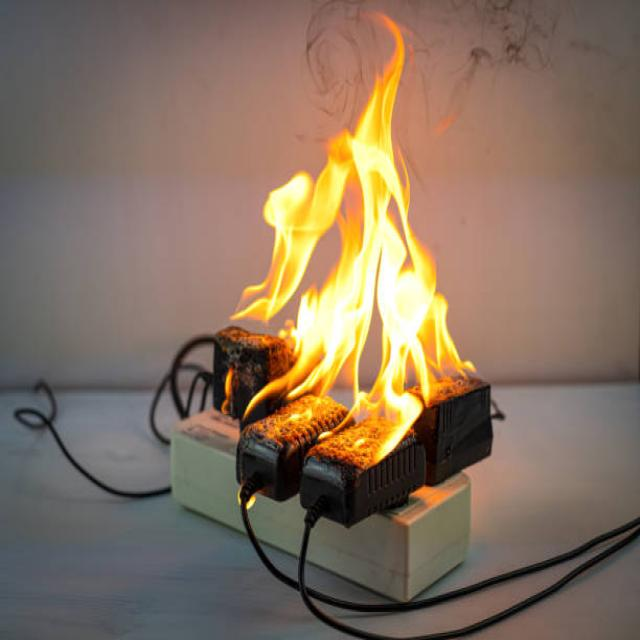fire: (227, 18, 506, 477)
